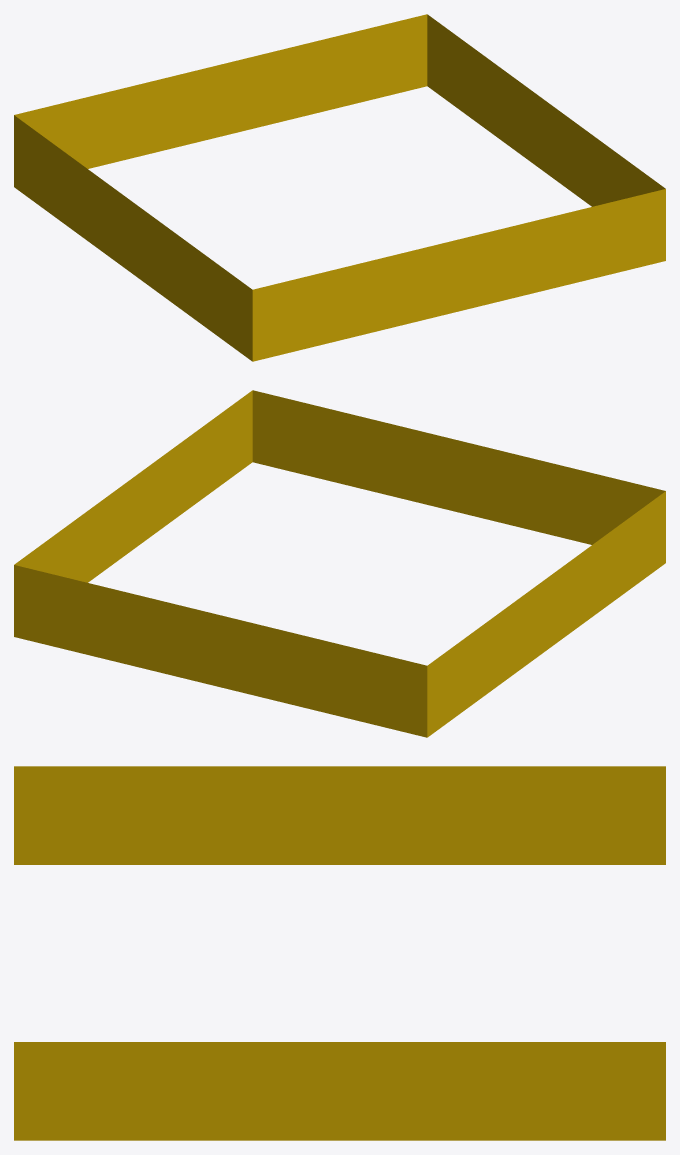
Rendered from selector4.gltf.
3 renders of one model, top to bottom at view 1: azimuth 30°, elevation 25°; view 2: azimuth 150°, elevation 25°; view 3: azimuth 270°, elevation 25°, orthographic. The views are drawn at different scales.
Visible parts, largest first — view 1: Cube.036; view 2: Cube.036; view 3: Cube.036.
Part boxes in pixels (x1,y1,x2,y2): Cube.036: (14,14,665,361); Cube.036: (14,390,665,737); Cube.036: (14,766,665,1140).
Bounding box in the file's own units: 6.06 × 1.01 × 6.06.
